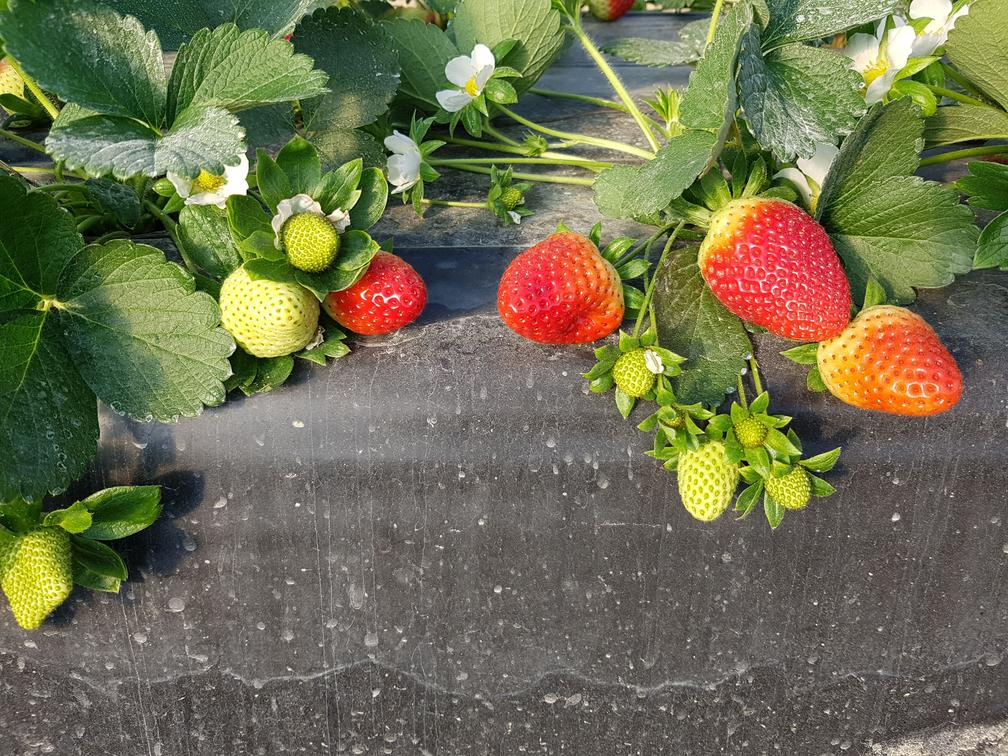Ripe: (696, 195, 858, 342), (496, 229, 626, 352), (819, 311, 964, 416), (340, 259, 427, 334)
Unripe: (225, 257, 310, 382), (2, 527, 80, 636), (674, 441, 748, 535), (285, 209, 342, 268), (767, 459, 818, 511), (615, 354, 659, 395), (740, 418, 768, 446)
